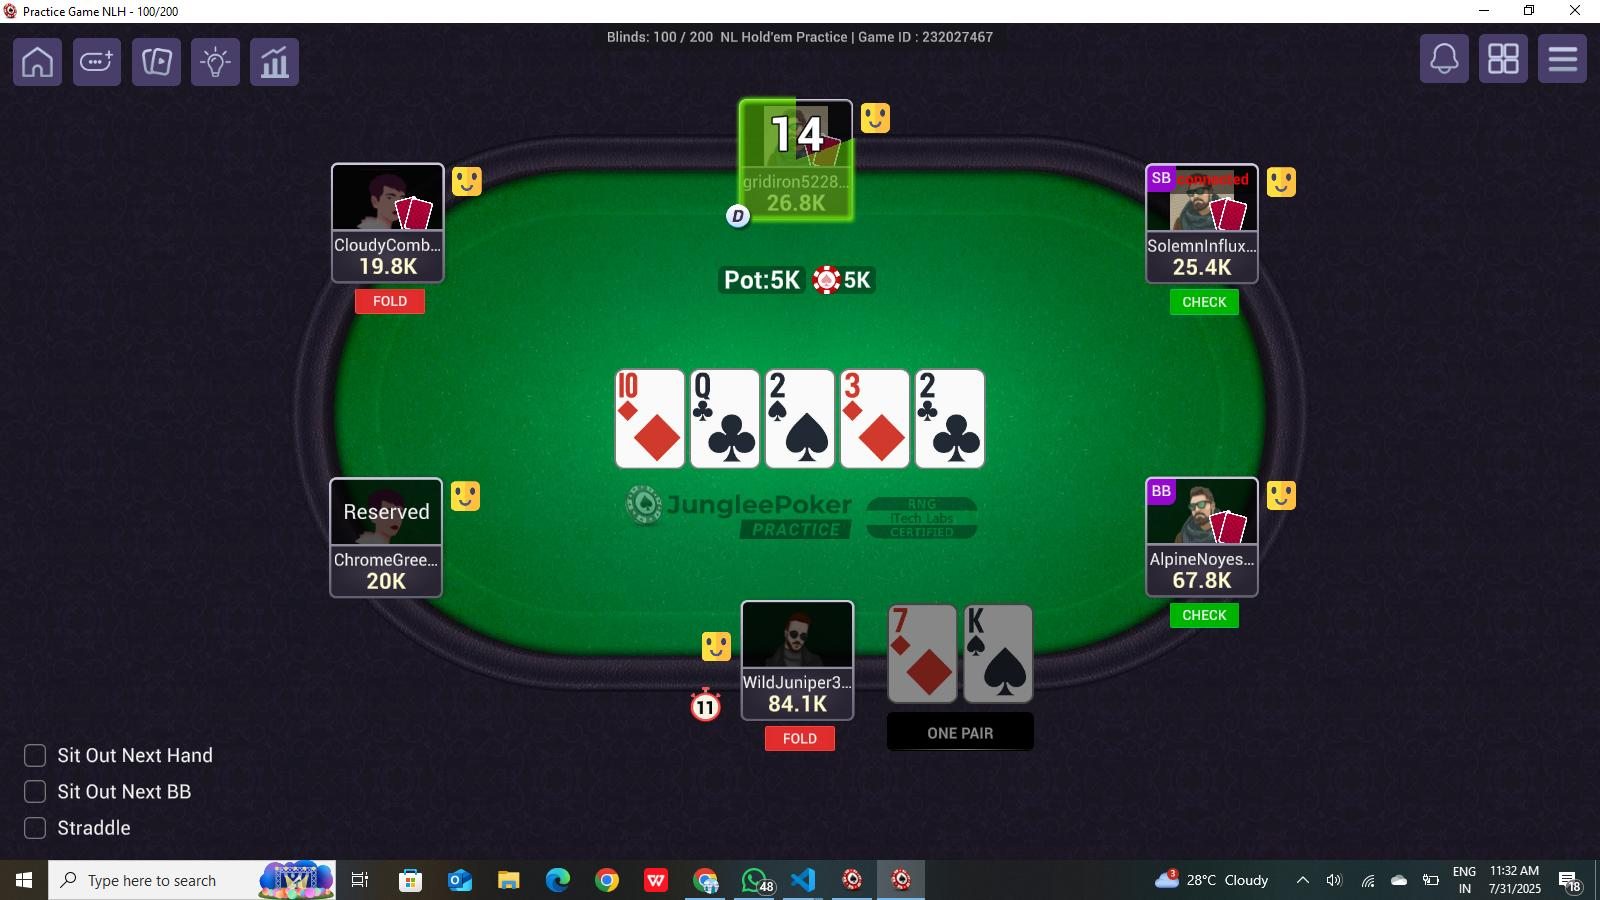card1_rank: (888, 605, 955, 638)
card1_suite_diamond: (902, 638, 957, 701)
card2_rank: (964, 604, 1027, 636)
card2_suite_spades: (980, 635, 1033, 700)
flop1_rank: (613, 367, 686, 405)
flop1_suite_diamond: (627, 401, 686, 466)
flop2_rank: (690, 370, 758, 405)
flop2_suite_club: (700, 401, 762, 469)
flop3_rank: (766, 367, 836, 408)
flop3_suite_spades: (780, 407, 833, 466)
game_id: (851, 23, 1001, 54)
my_stack: (740, 685, 855, 718)
position_BB: (1144, 475, 1181, 509)
position_SB: (1148, 163, 1180, 197)
river_rank: (914, 368, 986, 409)
river_suite_club: (926, 404, 981, 470)
total_pot: (718, 265, 877, 296)
turn_rank: (842, 370, 909, 412)
turn_suite_diamond: (856, 407, 907, 469)
villian1_name: (327, 541, 443, 570)
villian1_stack: (332, 565, 444, 595)
villian2_name: (330, 231, 442, 258)
villian2_stack: (332, 251, 444, 285)
villian3_name: (744, 163, 854, 198)
villian3_stack: (744, 189, 851, 221)
villian4_name: (1144, 229, 1256, 257)
villian4_stack: (1151, 253, 1257, 284)
villian5_name: (1148, 543, 1260, 573)
villian5_stack: (1148, 565, 1257, 595)
